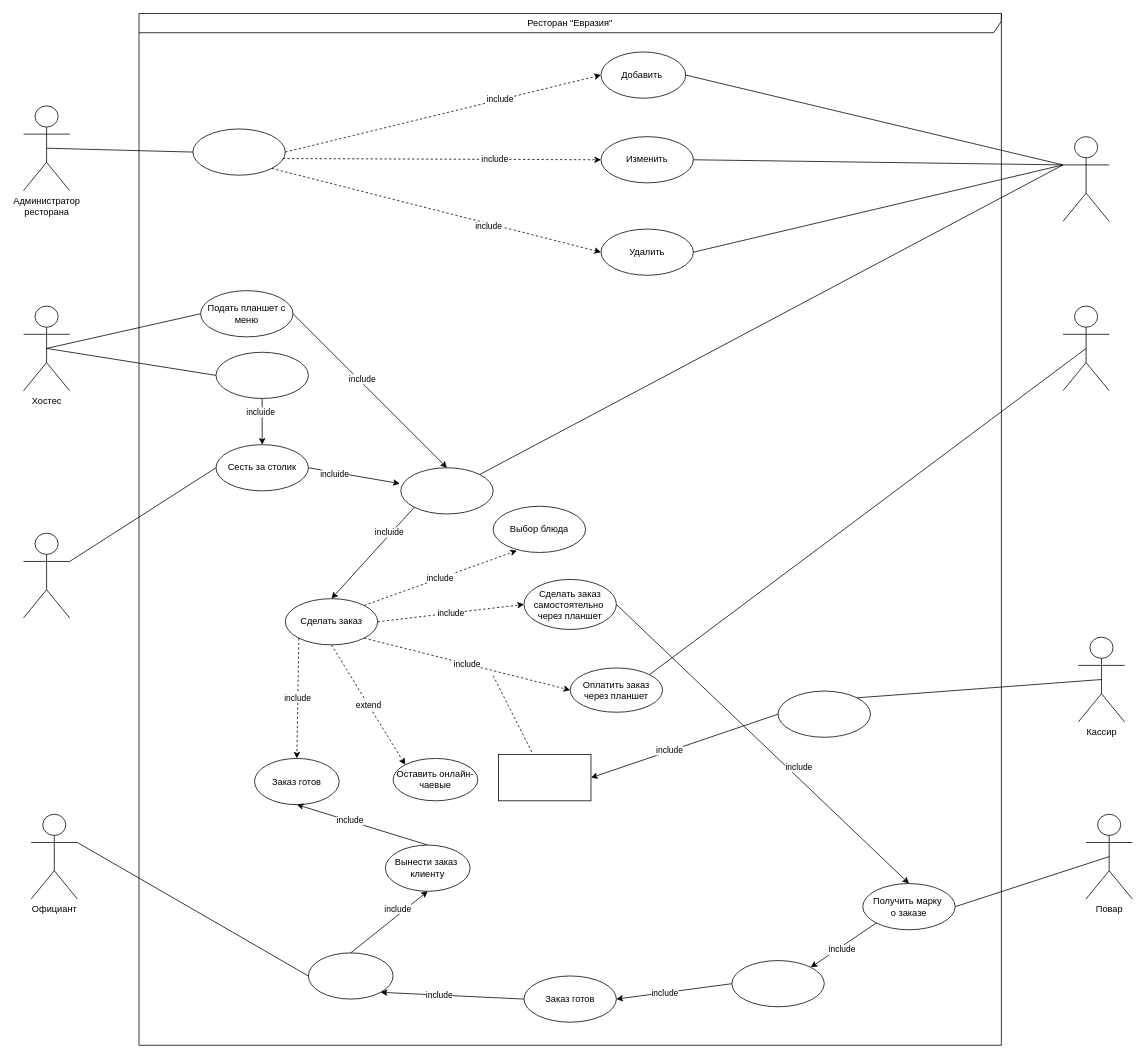
The diagram is 1146 pixels wide and 1059 high, and some of its shapes have lost their labels. Here are the shapes that lost their labels. From the top down, the centre of each, then its label:
pixel 238 151: Редактировать меню
pixel 1085 178: Электронное меню ресторана
pixel 1085 348: Банк
pixel 261 375: Посадить за столик
pixel 446 490: Просмотр меню
pixel 46 575: Клиент
pixel 823 713: Рассчитать клиента
pixel 544 777: Оплата наличными
pixel 350 975: Забрать заказ на кухне
pixel 777 983: Приготовить заказ
